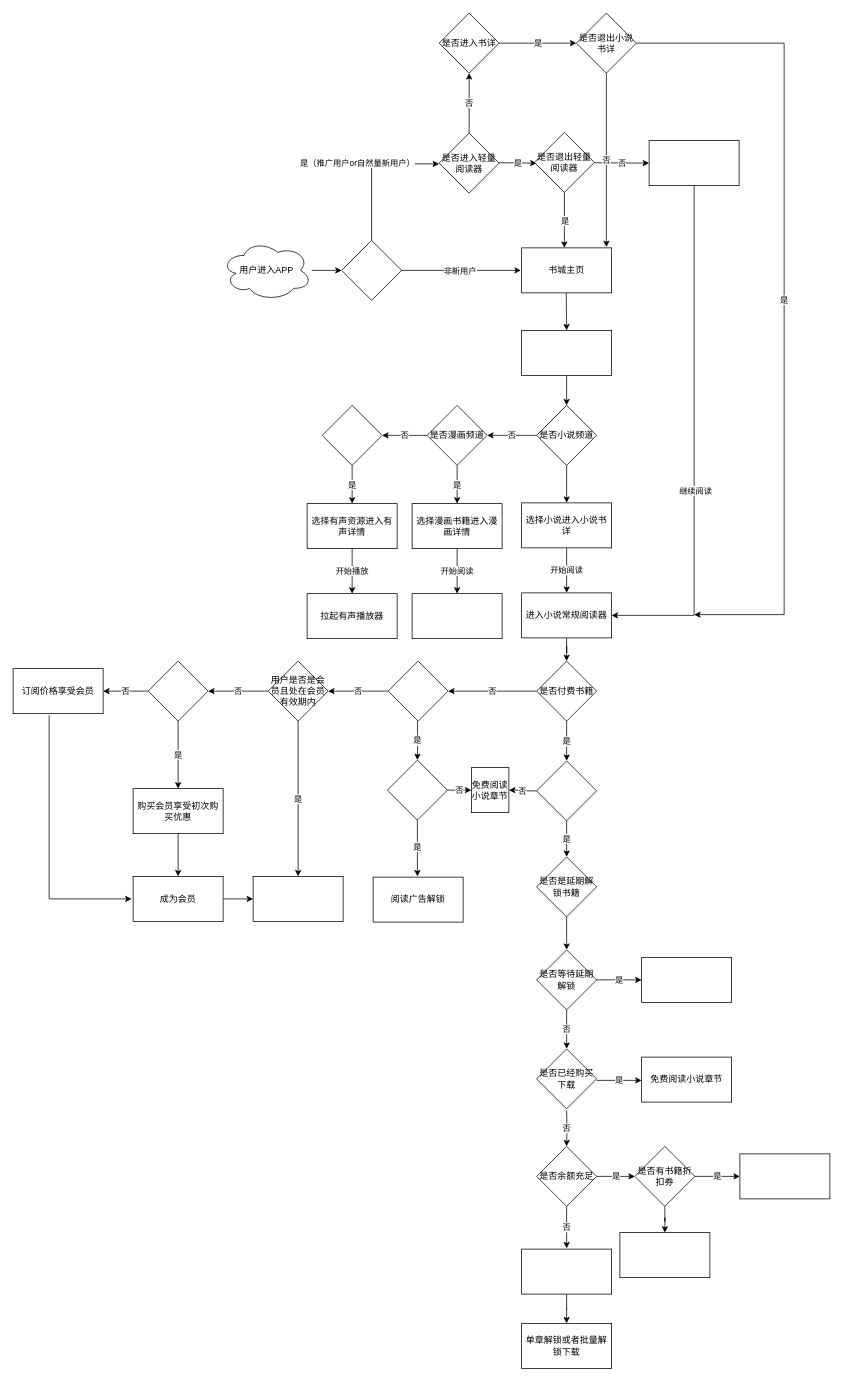
Some shapes in this 843 by 1382 pixel diagram are drawn without their labels. The shapes that lost their labels are listed below. From the top down, each one's box as (x1, y1, x2, y2) in pixels, then its label:
(648, 140, 739, 186): 阅读第一章
(341, 240, 402, 300): 是否新用户
(521, 330, 612, 375): 根据运营后台配置频道、栏目、榜单组、榜单信息，获取栏目书籍信息
(321, 405, 382, 465): 是否有声频道
(411, 593, 502, 639): 进入漫画阅读器
(147, 660, 208, 721): 是否初次购买会员
(387, 660, 448, 721): 是否广告书籍
(387, 759, 447, 820): 是否解锁章节
(536, 760, 597, 821): 是否付费章节
(252, 876, 343, 921): 可免费阅读VIP小说
(641, 957, 732, 1002): 倒计时到期后可免费解锁
(739, 1153, 830, 1199): 折扣价格解锁章节阅读
(521, 1248, 612, 1294): 充值购买金豆
(619, 1232, 710, 1278): 原价解锁章节阅读
